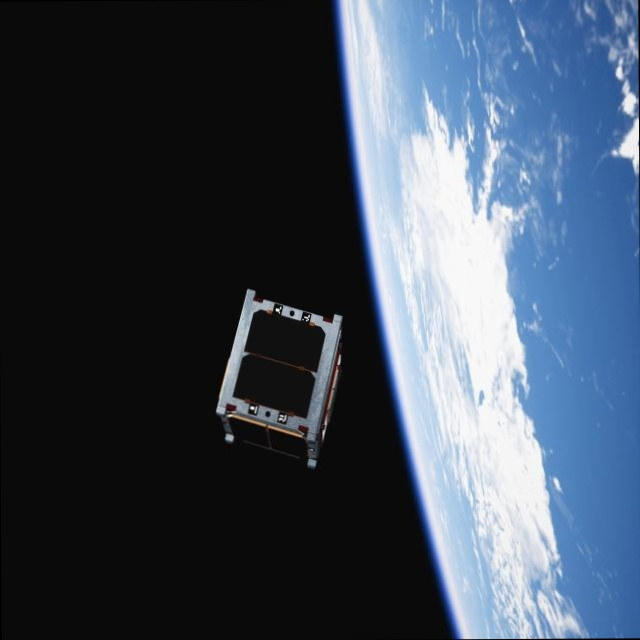medium_debris: (209, 279, 355, 477)
